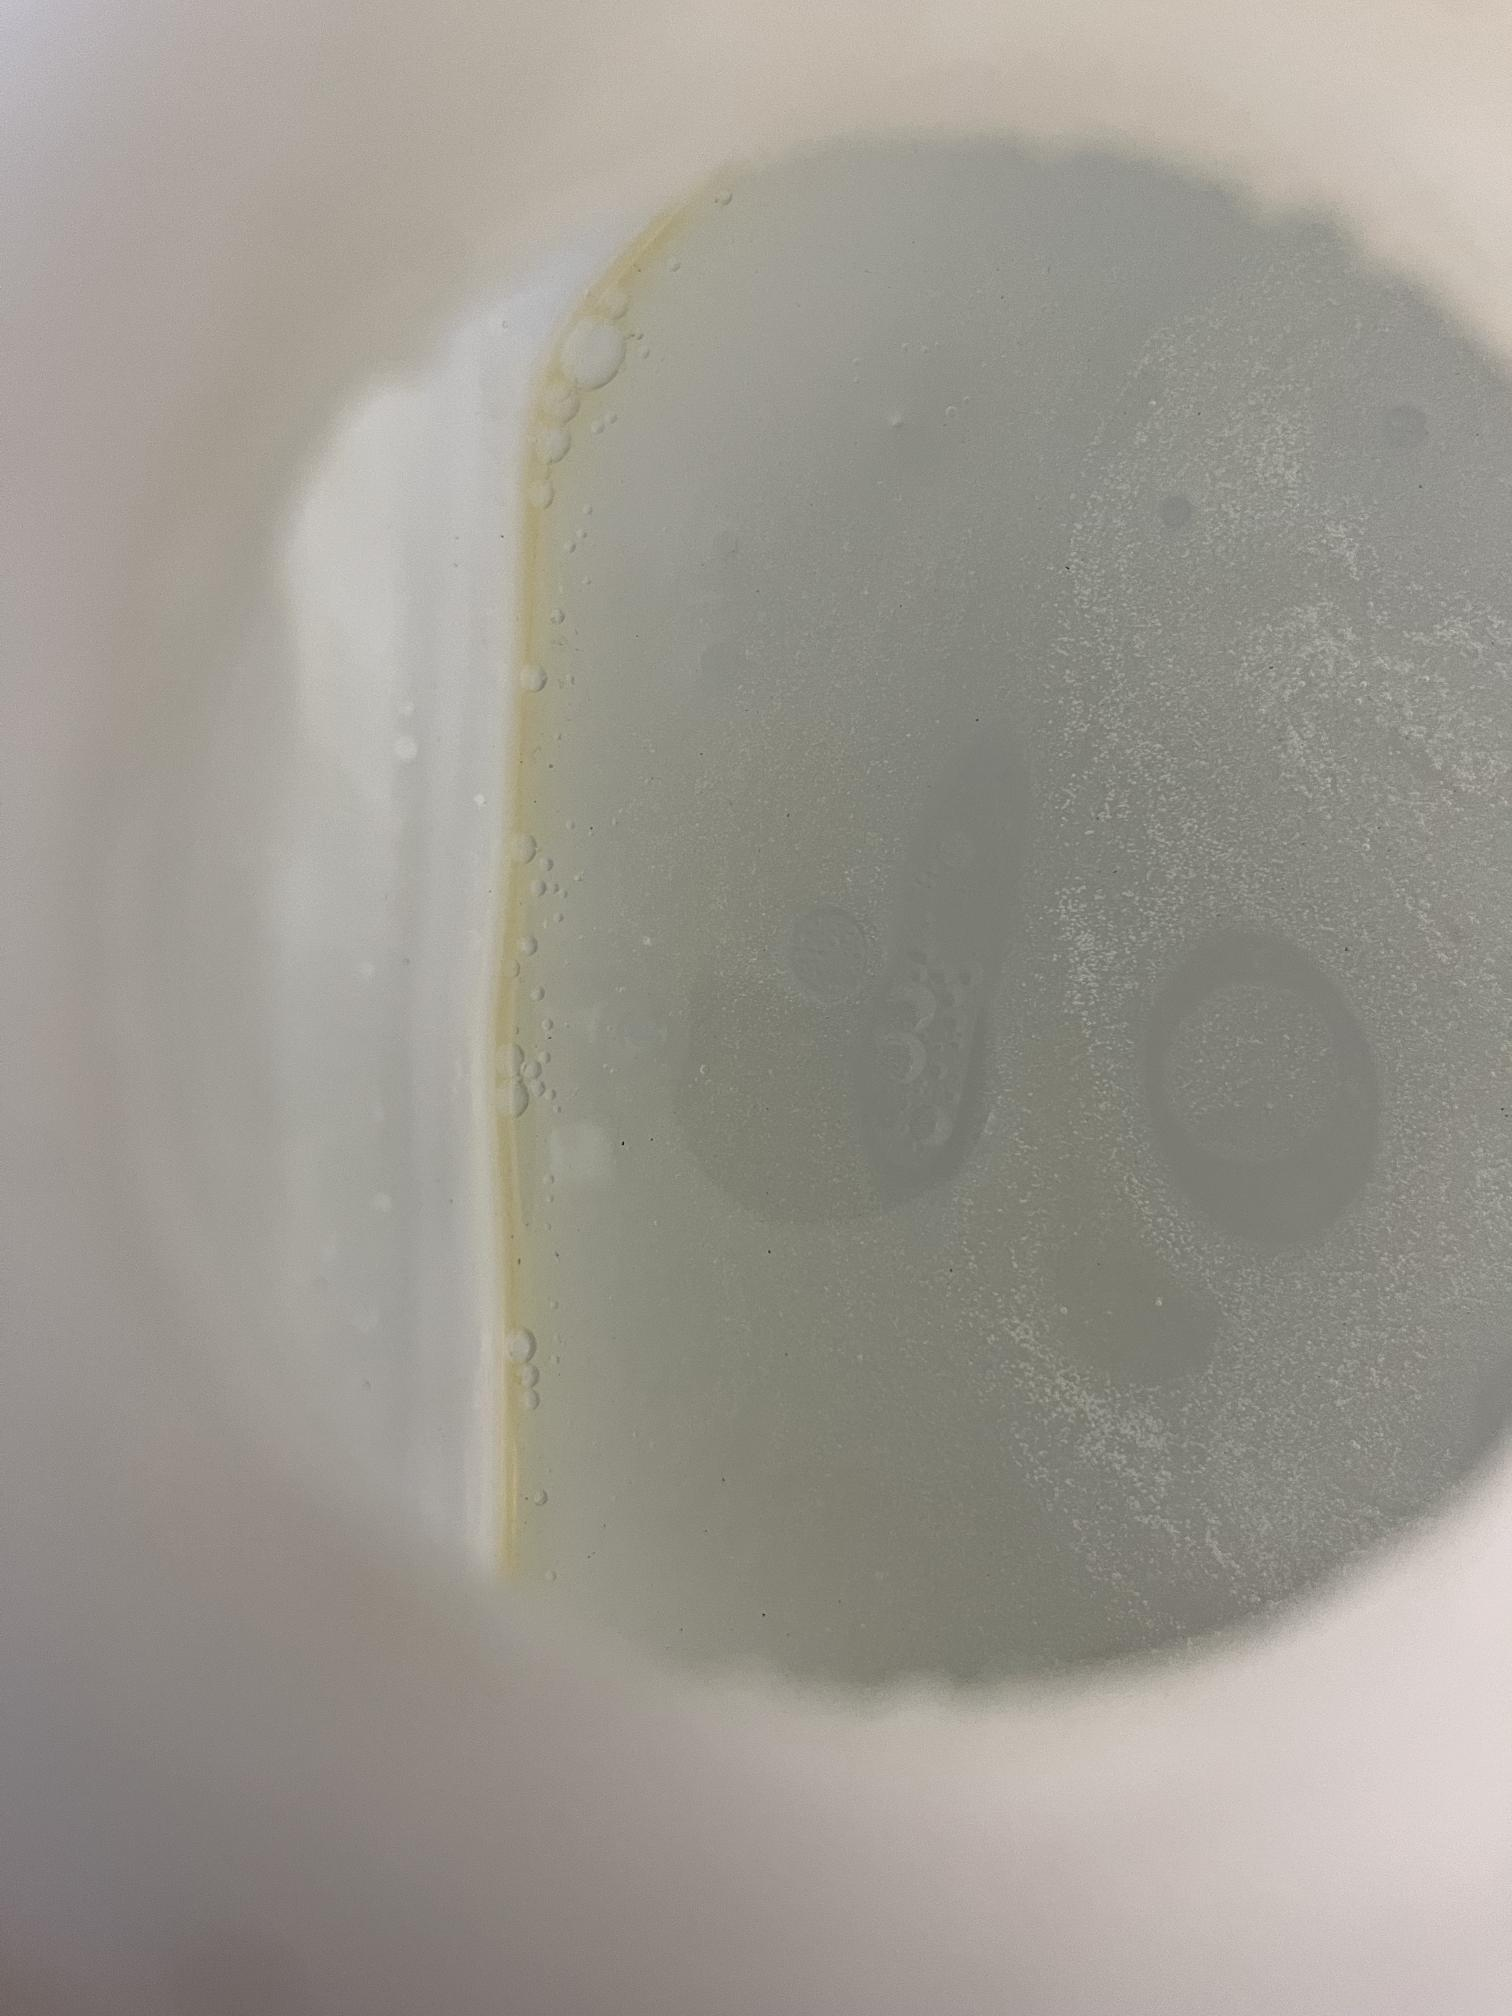Presenca de Oleo - - 50ml: (240, 105, 1441, 1795)
